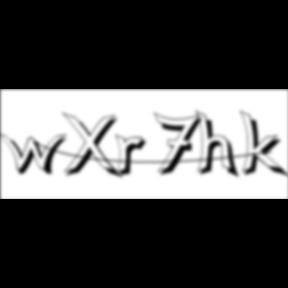7: (154, 111, 208, 179)
X: (62, 112, 126, 182)
h: (196, 108, 242, 182)
r: (115, 134, 153, 180)
w: (0, 132, 74, 178)
